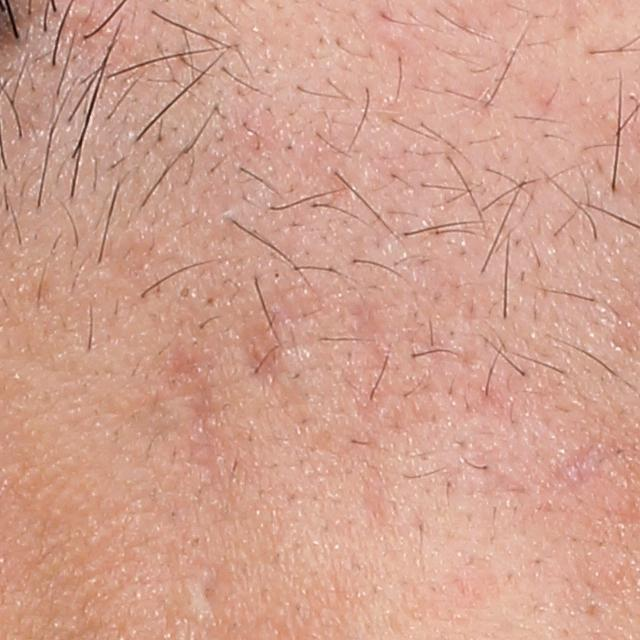atrophic_scar: (166, 347, 215, 432)
comedo: (176, 283, 191, 303)
